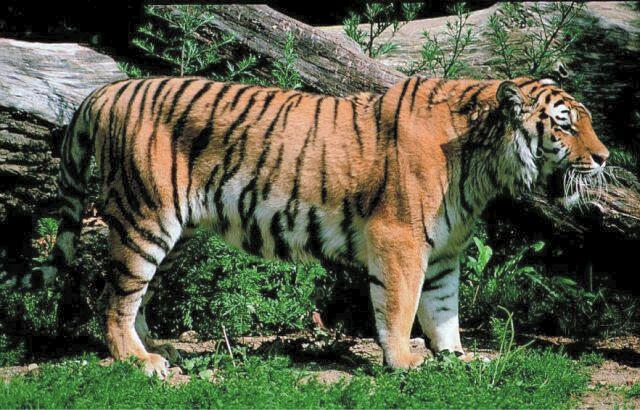Tigre: (41, 64, 604, 343)
